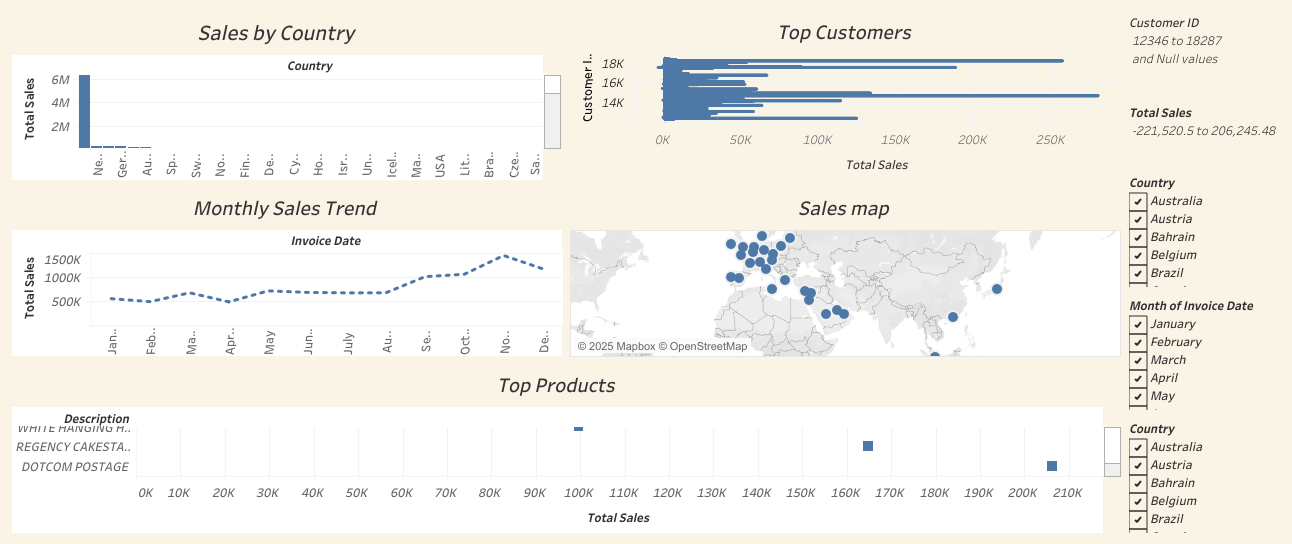

This screenshot's page, from the dashboard's own definition file:
{"tool":"tableau","page":{"name":"Dashboard 1","canvas":[1000,1000],"units":"permille","ordinal":0},"visuals":[{"type":"worksheet","title":"Sheet 1","mark":"Automatic","rows":["Calculation_914793735767068674"],"cols":["Country"],"box":[6,14.5,434.3,323.7]},{"type":"worksheet","title":"Sheet 4","mark":"Automatic","rows":["CustomerID"],"cols":["Calculation_914793735767068674"],"box":[440.3,14.5,434.4,323.7]},{"type":"filter","title":"Sheet 4","param":"[federated.0zaihbd04433w31btq8oy143rt1i].[none:CustomerID:qk]","box":[874.6,14.5,119.4,125]},{"type":"filter","title":"Sheet 1","param":"[federated.0zaihbd04433w31btq8oy143rt1i].[none:Country:nk]","box":[874.6,139.5,119.4,282]},{"type":"worksheet","title":"Sheet 2","mark":"Automatic","rows":["Calculation_914793735767068674"],"cols":["InvoiceDate"],"box":[6,338.1,434.3,323.7]},{"type":"worksheet","title":"Sheet 5","mark":"Automatic","box":[440.3,338.1,434.3,323.7]},{"type":"filter","title":"Sheet 2","param":"[federated.0zaihbd04433w31btq8oy143rt1i].[mn:InvoiceDate:ok]","box":[874.6,421.5,119.4,282]},{"type":"worksheet","title":"Sheet 3","mark":"Square","rows":["Description"],"cols":["Calculation_914793735767068674"],"box":[6,661.8,868.7,323.7]},{"type":"filter","title":"Sheet 5","param":"[federated.0zaihbd04433w31btq8oy143rt1i].[none:Country:nk]","box":[874.6,703.5,119.4,282]}]}

Visuals, with their boxes on the dashboard's canvas, which has no fixed pixel size, in thousandths of its width and height (x1, y1, x2, y2). These are canvas units, not pixel positions in the 1292x544 screenshot, which may show the page scaled, cropped or inside an application window:
"Sheet 1" worksheet: bbox=(6, 14, 440, 338)
"Sheet 4" worksheet: bbox=(440, 14, 875, 338)
"Sheet 4" filter: bbox=(875, 14, 994, 140)
"Sheet 1" filter: bbox=(875, 140, 994, 422)
"Sheet 2" worksheet: bbox=(6, 338, 440, 662)
"Sheet 5" worksheet: bbox=(440, 338, 875, 662)
"Sheet 2" filter: bbox=(875, 422, 994, 704)
"Sheet 3" worksheet (Square marks): bbox=(6, 662, 875, 986)
"Sheet 5" filter: bbox=(875, 704, 994, 986)
